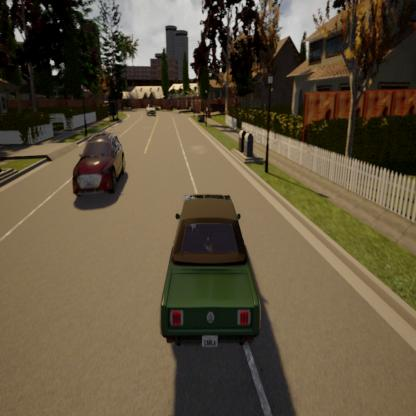Cars: (157, 182, 275, 363), (64, 116, 136, 220), (144, 100, 158, 123)
